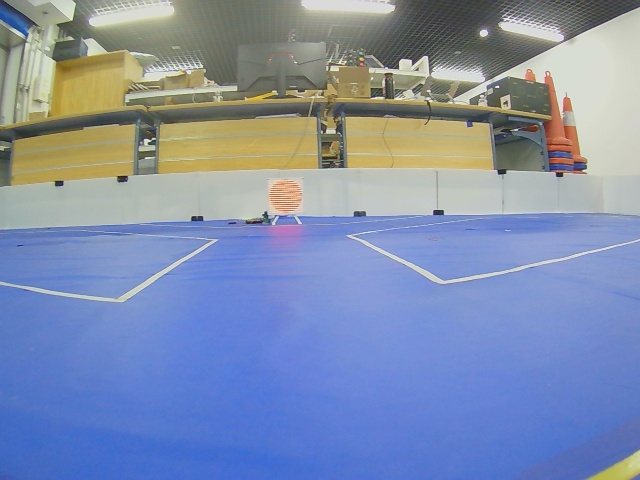red: (268, 178, 303, 215)
